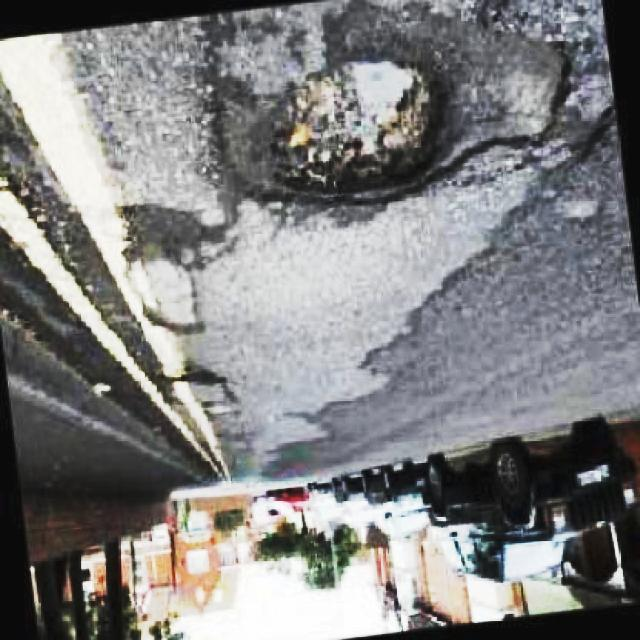pothole: (214, 0, 572, 217)
